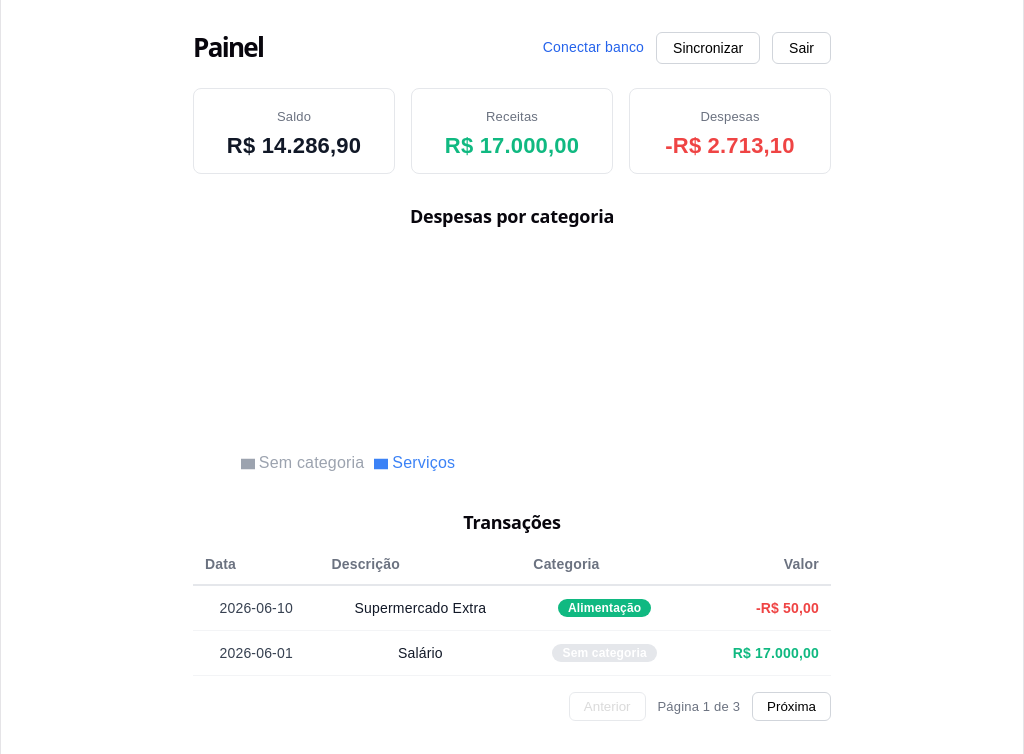
Test: DashboardPage › shows friendly message when transactions/fetch/ returns 503
The width and height of the screenshot is (1024, 754).
expect the text "Supermercado Extra" is shown: met, box [319, 585, 521, 631]
Click the button "Sincronizar": (708, 48) [656, 32, 760, 64]
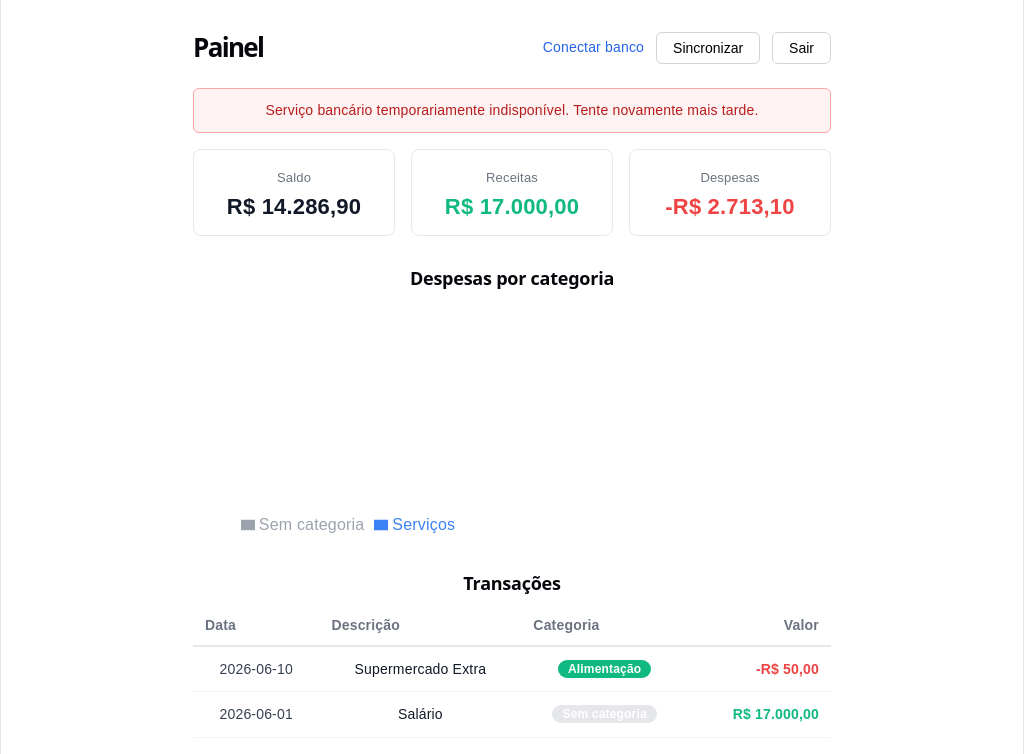
expect the text "Serviço bancário temporariamente indisponível. Tente novamente mais tarde." is shown: met, box [193, 88, 831, 133]
